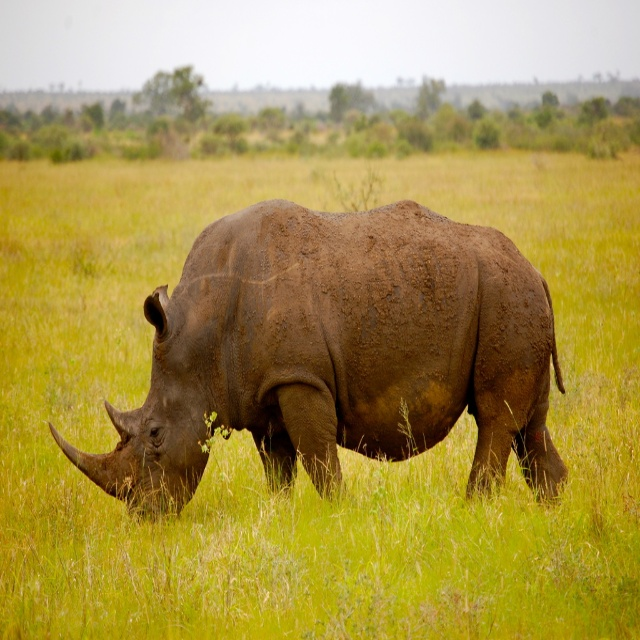Rhinoceros: (48, 198, 569, 526)
